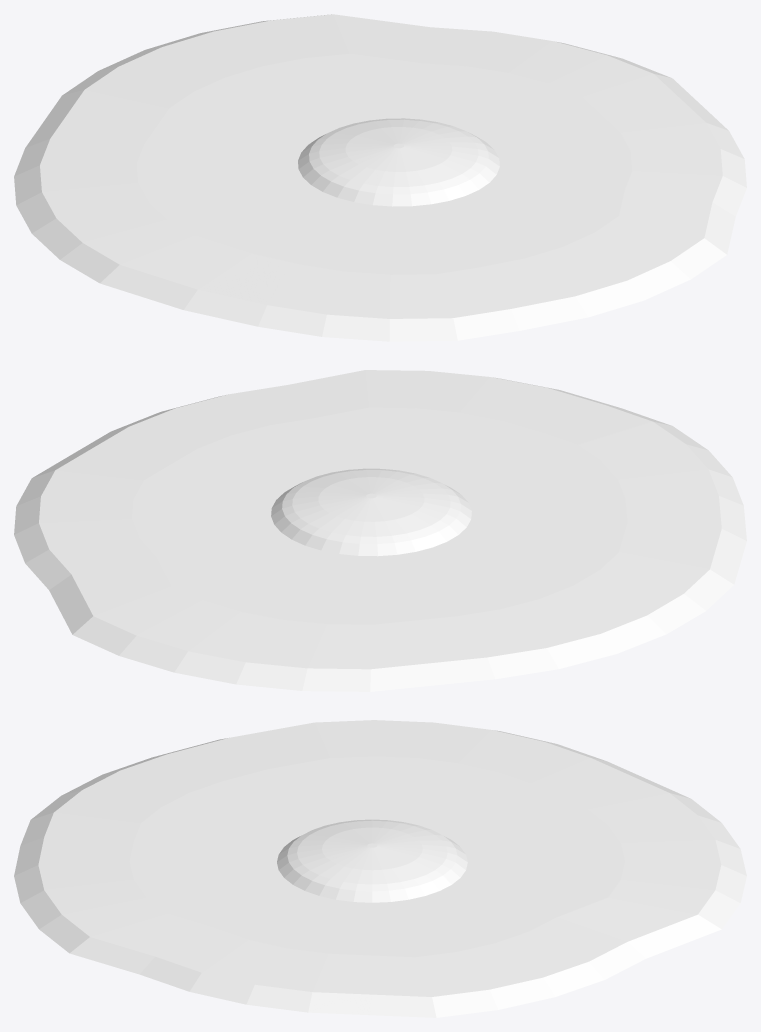
Rendered from Egg.fbx.
The picture shows the model from 3 angles, top to bottom: view 1: azimuth 30°, elevation 25°; view 2: azimuth 150°, elevation 25°; view 3: azimuth 270°, elevation 25°; orthographic projection. The views are drawn at different scales.
Visible parts, largest first — view 1: Cylinder.001; view 2: Cylinder.001; view 3: Cylinder.001.
Part boxes in pixels (left/top/right/bottom): Cylinder.001: left=14, top=14, right=746, bottom=341; Cylinder.001: left=14, top=370, right=746, bottom=691; Cylinder.001: left=14, top=720, right=746, bottom=1017.
Size of the model in its own units: 214 by 10.25 by 223.
